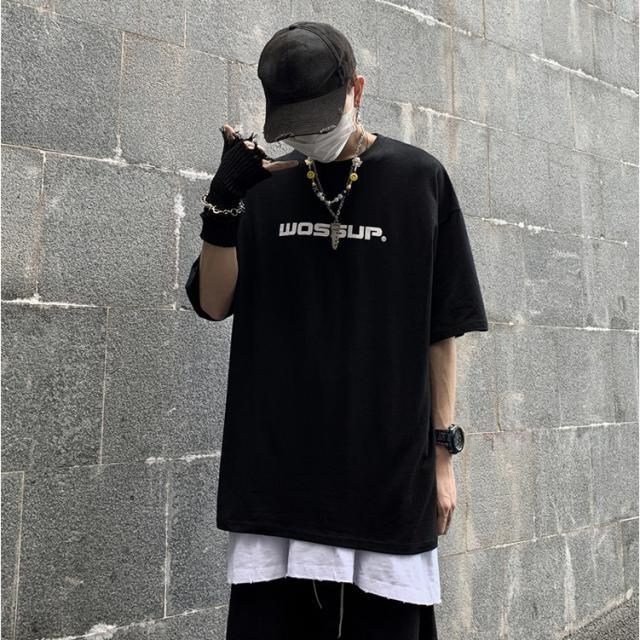Shirt: (184, 136, 491, 558)
